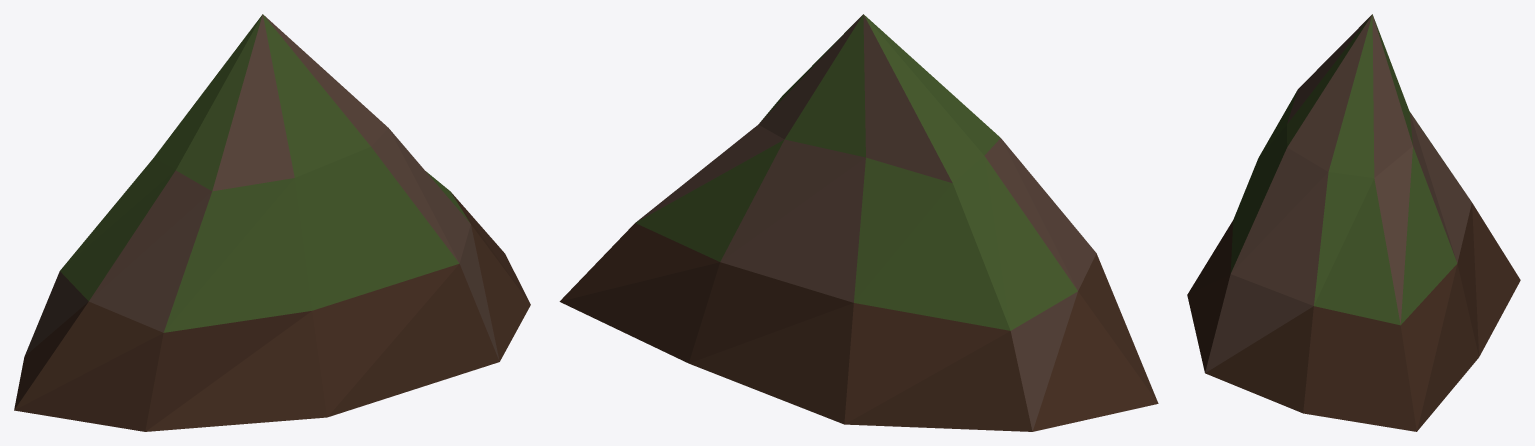
The model's file is Mountain_C.obj.
3 views of the same model, side by side, from view 1: azimuth 30°, elevation 25°; view 2: azimuth 150°, elevation 25°; view 3: azimuth 270°, elevation 25° (orthographic). The views are drawn at different scales.
Visible parts, largest first — view 1: Mountain_C; view 2: Mountain_C; view 3: Mountain_C.
Part boxes in pixels (left/top/right/bottom): Mountain_C: left=14, top=14, right=530, bottom=431; Mountain_C: left=559, top=14, right=1158, bottom=431; Mountain_C: left=1187, top=14, right=1520, bottom=431.
Size of the model in its own units: 90.48 by 52.4 by 53.19.
